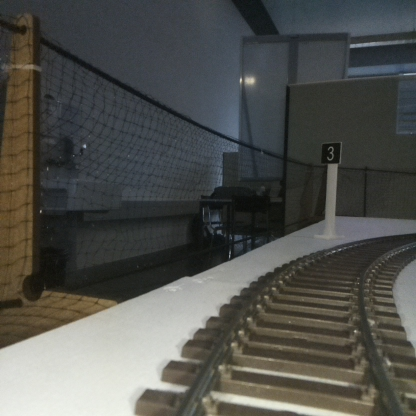black-info-3: (321, 143, 340, 237)
